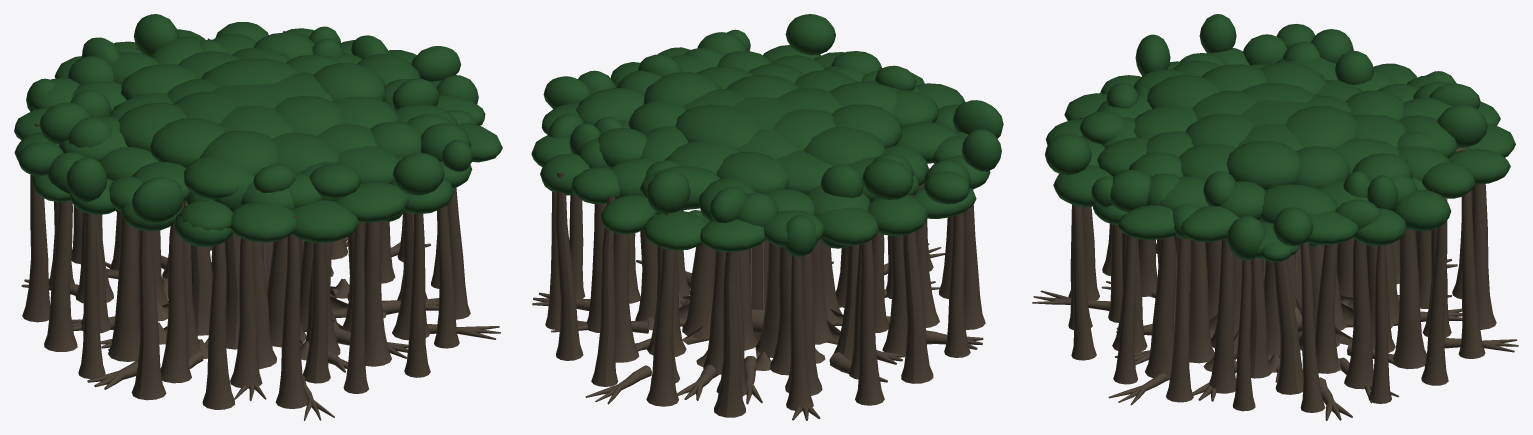
The model's file is banyan-large-untextured.glb.
The picture shows the model from 3 angles, left to right: view 1: azimuth 30°, elevation 25°; view 2: azimuth 150°, elevation 25°; view 3: azimuth 270°, elevation 25°; orthographic projection. The views are drawn at different scales.
Visible parts, largest first — view 1: Mesh_AerialPropRoot_38, Mesh_AerialPropRoot_36, Mesh_AerialPropRoot_24, Mesh_AerialPropRoot_37, Mesh_AerialPropRoot_23, Mesh_AerialPropRoot_40, Mesh_AerialPropRoot_22, Mesh_AerialPropRoot_20, Mesh_AerialPropRoot_39, Mesh_AerialPropRoot_41, Mesh_AerialPropRoot_34, Mesh_AerialPropRoot_35 (+88 smaller); view 2: Mesh_AerialPropRoot_43, Mesh_AerialPropRoot_44, Mesh_AerialPropRoot_40, Mesh_AerialPropRoot_41, Mesh_DenseLeafCluster_006, Mesh_AerialPropRoot_46, Mesh_AerialPropRoot_45, Mesh_AerialPropRoot_42, Mesh_AerialPropRoot_39, Mesh_DenseLeafCluster_013, Mesh_AerialPropRoot_29, Mesh_AerialPropRoot_07 (+90 smaller); view 3: Mesh_AerialPropRoot_29, Mesh_AerialPropRoot_19, Mesh_DenseLeafCluster_007, Mesh_AerialPropRoot_30, Mesh_AerialPropRoot_32, Mesh_AerialPropRoot_18, Mesh_AerialPropRoot_31, Mesh_AerialPropRoot_46, Mesh_AerialPropRoot_45, Mesh_AerialPropRoot_09, Mesh_DenseLeafCluster_006, Mesh_AerialPropRoot_48 (+87 smaller).
Part boxes in pixels (<box>): Mesh_AerialPropRoot_38: <box>131,230,166,400</box>; Mesh_AerialPropRoot_36: <box>275,215,307,408</box>; Mesh_AerialPropRoot_24: <box>108,215,139,361</box>; Mesh_AerialPropRoot_37: <box>202,241,235,409</box>; Mesh_AerialPropRoot_23: <box>160,201,191,383</box>; Mesh_AerialPropRoot_40: <box>44,200,77,351</box>; Mesh_AerialPropRoot_22: <box>230,238,262,388</box>; Mesh_AerialPropRoot_20: <box>364,221,391,366</box>; Mesh_AerialPropRoot_39: <box>78,213,105,379</box>; Mesh_AerialPropRoot_41: <box>22,123,50,322</box>; Mesh_AerialPropRoot_34: <box>404,214,430,377</box>; Mesh_AerialPropRoot_35: <box>343,222,368,393</box>; Mesh_AerialPropRoot_43: <box>714,251,745,417</box>; Mesh_AerialPropRoot_44: <box>646,213,678,406</box>; Mesh_AerialPropRoot_40: <box>901,194,933,383</box>; Mesh_AerialPropRoot_41: <box>855,215,884,405</box>; Mesh_DenseLeafCluster_006: <box>675,104,759,150</box>; Mesh_AerialPropRoot_46: <box>556,172,583,360</box>; Mesh_AerialPropRoot_45: <box>591,196,617,386</box>; Mesh_AerialPropRoot_42: <box>786,255,813,410</box>; Mesh_AerialPropRoot_39: <box>944,212,970,357</box>; Mesh_DenseLeafCluster_013: <box>803,127,886,165</box>; Mesh_AerialPropRoot_29: <box>613,232,639,362</box>; Mesh_AerialPropRoot_07: <box>682,244,716,338</box>; Mesh_AerialPropRoot_29: <box>1393,228,1426,369</box>; Mesh_AerialPropRoot_19: <box>1145,236,1175,379</box>; Mesh_DenseLeafCluster_007: <box>1226,141,1300,190</box>; Mesh_AerialPropRoot_30: <box>1344,239,1373,389</box>; Mesh_AerialPropRoot_32: <box>1166,237,1193,402</box>; Mesh_AerialPropRoot_18: <box>1209,238,1236,393</box>; Mesh_AerialPropRoot_31: <box>1273,259,1303,394</box>; Mesh_AerialPropRoot_46: <box>1421,199,1448,385</box>; Mesh_AerialPropRoot_45: <box>1458,169,1485,358</box>; Mesh_AerialPropRoot_09: <box>1189,239,1214,363</box>; Mesh_DenseLeafCluster_006: <box>1285,106,1358,148</box>; Mesh_AerialPropRoot_48: <box>1300,242,1325,412</box>.
Bounding box in the file's own units: 19.31 × 9.93 × 19.32.
